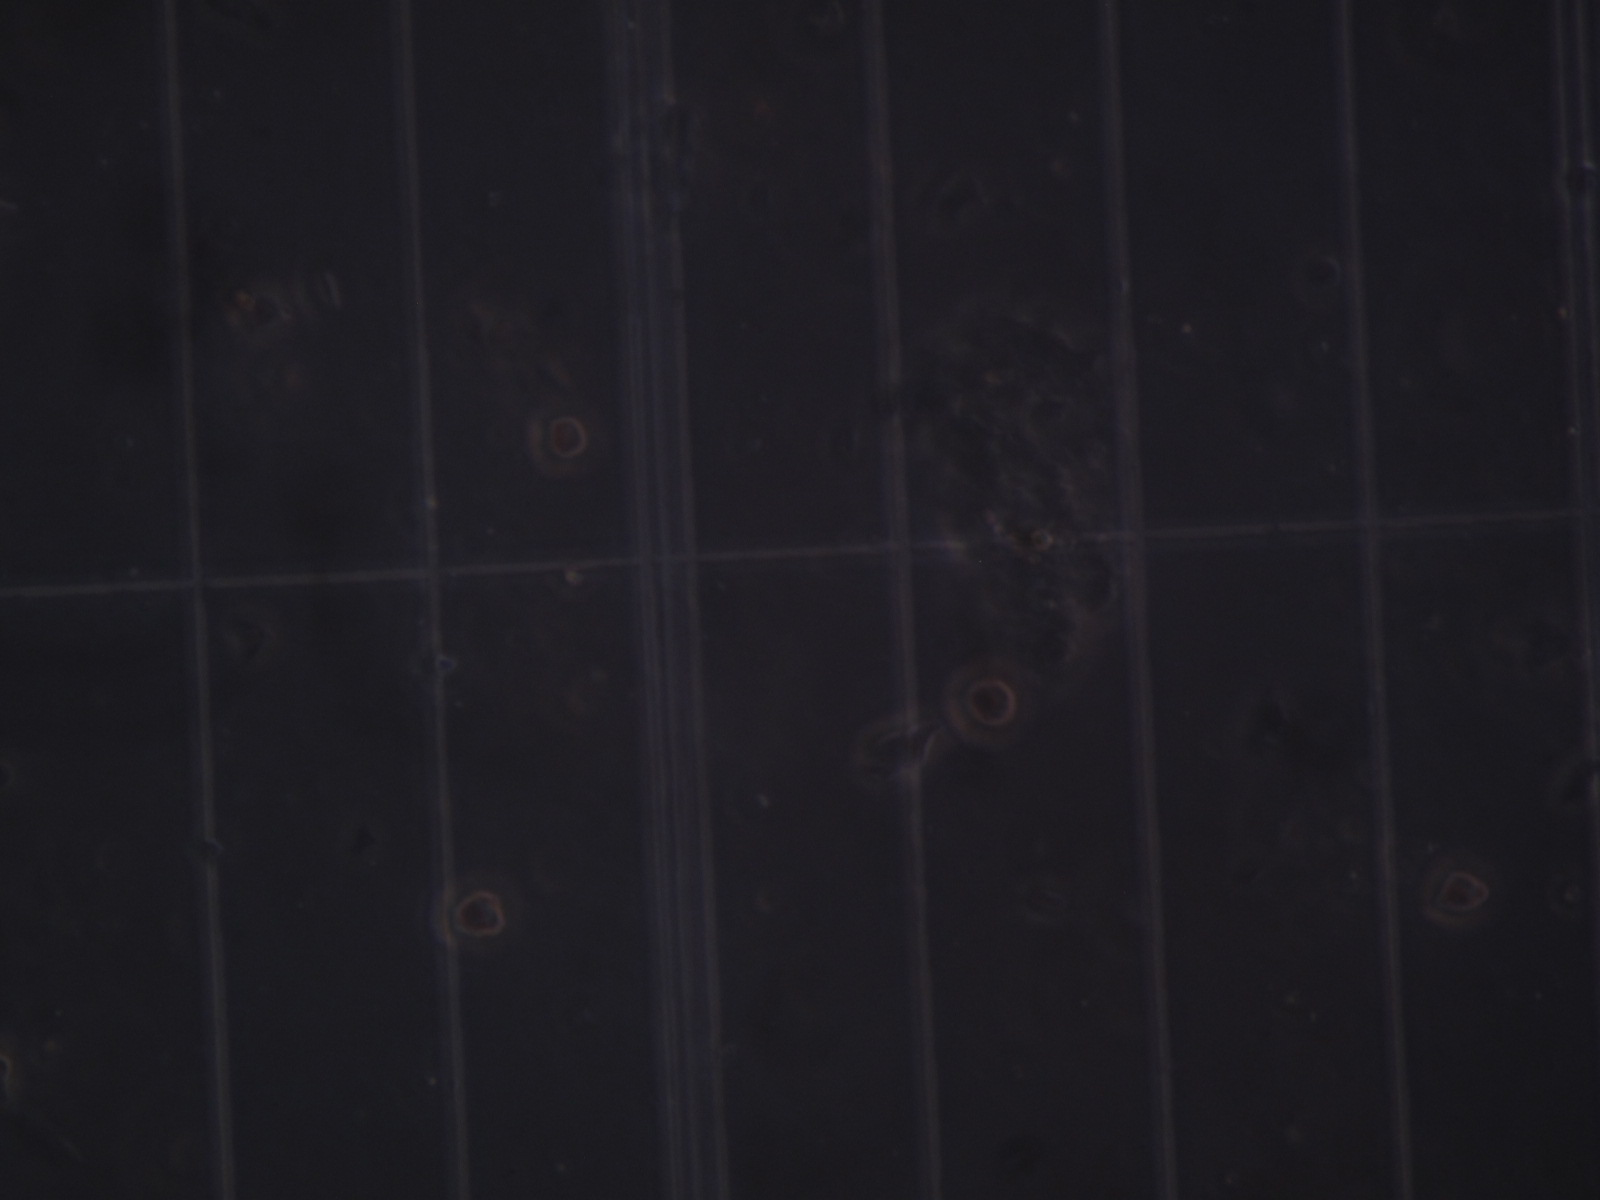hemo: (944, 657, 1018, 751), (430, 871, 510, 954), (527, 401, 591, 482), (1424, 856, 1490, 926)
